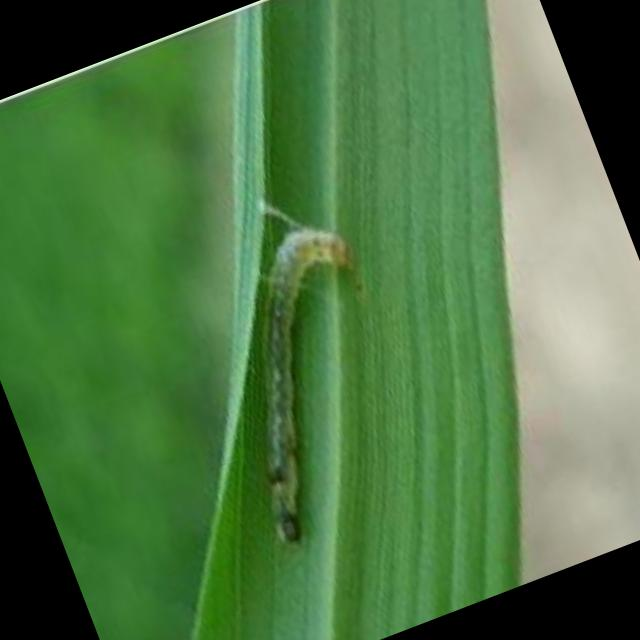leaf-folder: (166, 196, 447, 560)
